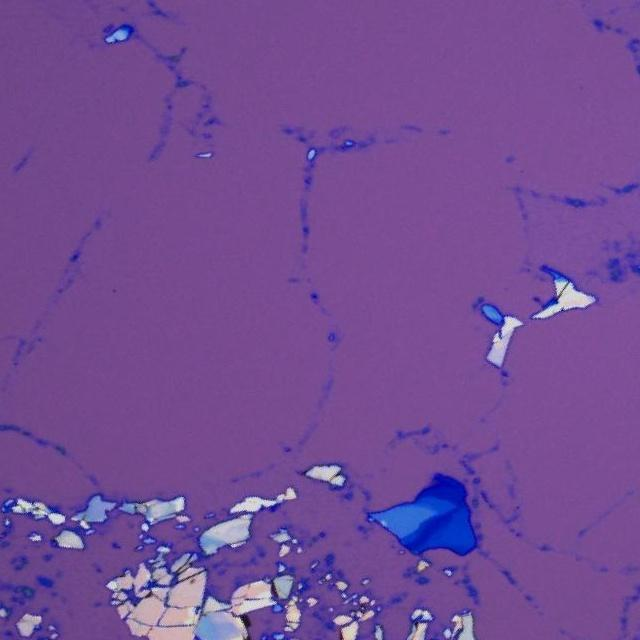monolayer-eWW4: (425, 479, 434, 488)
